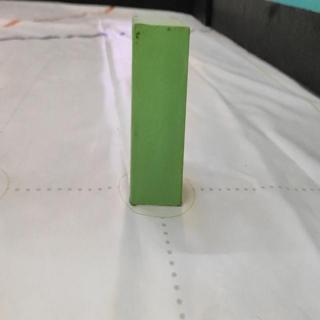greenbox: (131, 11, 191, 209)
